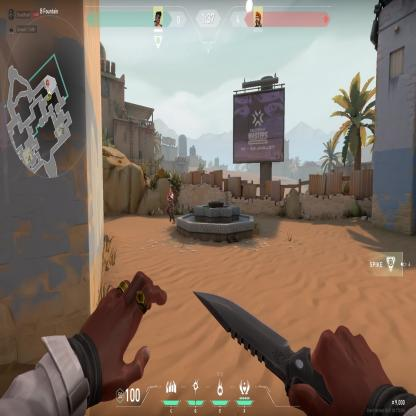enemy: (166, 187, 176, 225)
